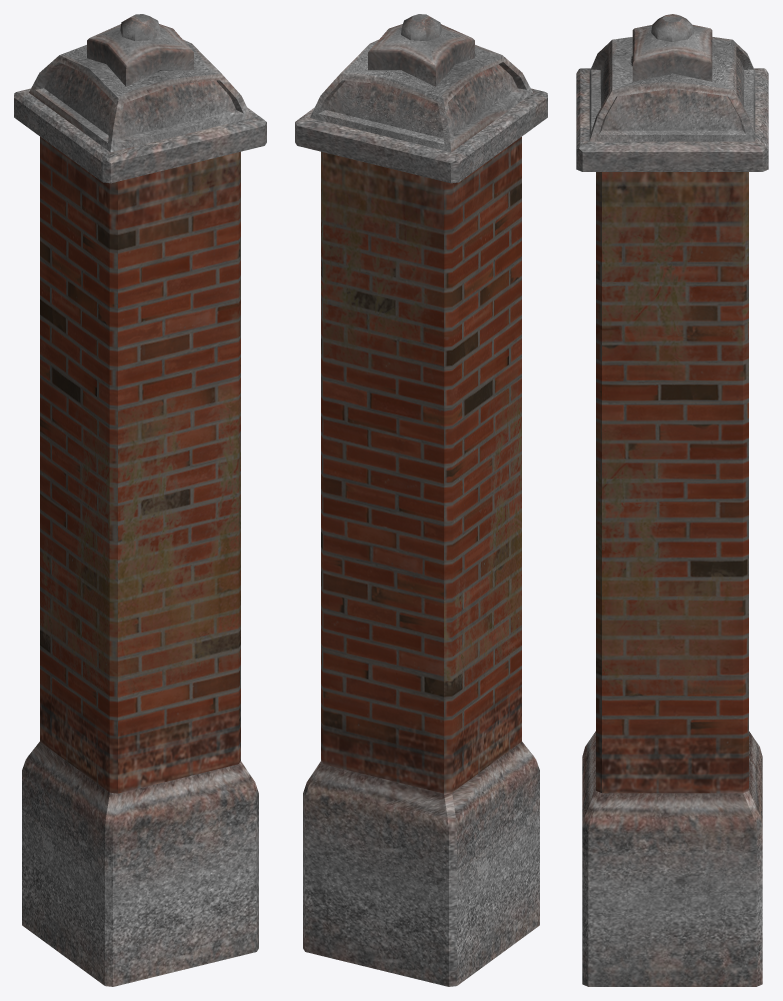
Rendered from pilar.fbx.
The picture shows the model from 3 angles, left to right: view 1: azimuth 30°, elevation 25°; view 2: azimuth 150°, elevation 25°; view 3: azimuth 270°, elevation 25°; orthographic projection.
Parts seen in each view (by area): view 1: pCube1; view 2: pCube1; view 3: pCube1.
Part boxes in pixels (x1=…): pCube1: x1=14, y1=14, x2=266, y2=986; pCube1: x1=295, y1=14, x2=547, y2=986; pCube1: x1=576, y1=14, x2=768, y2=986.
Size of the model in its own units: 50.1 by 268 by 50.1.
